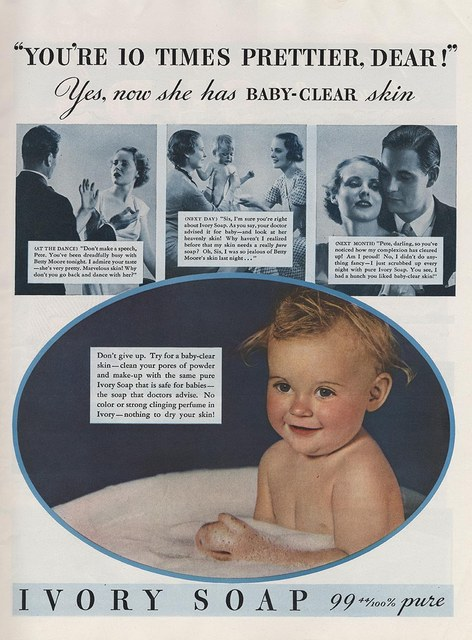Pampers Active Baby Diapers: (24, 32, 448, 608)
